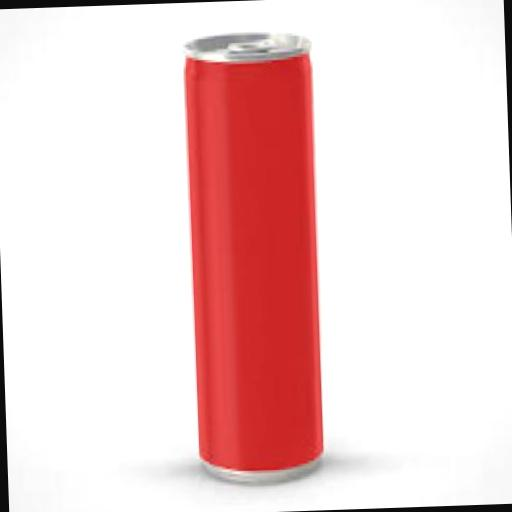metal: (180, 30, 325, 482)
